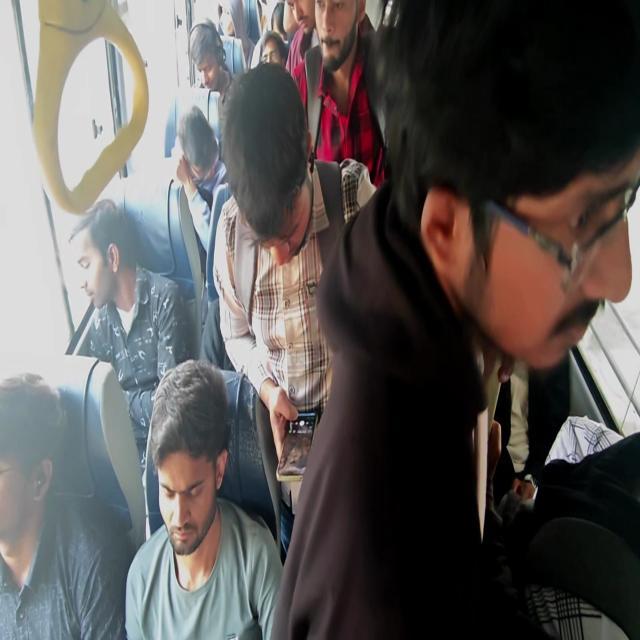person: (451, 16, 625, 381), (231, 97, 319, 291), (149, 396, 234, 592), (0, 375, 65, 586), (60, 202, 119, 334), (177, 103, 218, 209), (189, 19, 220, 113), (318, 2, 357, 71), (286, 0, 316, 63), (256, 29, 290, 84), (216, 0, 245, 42)
